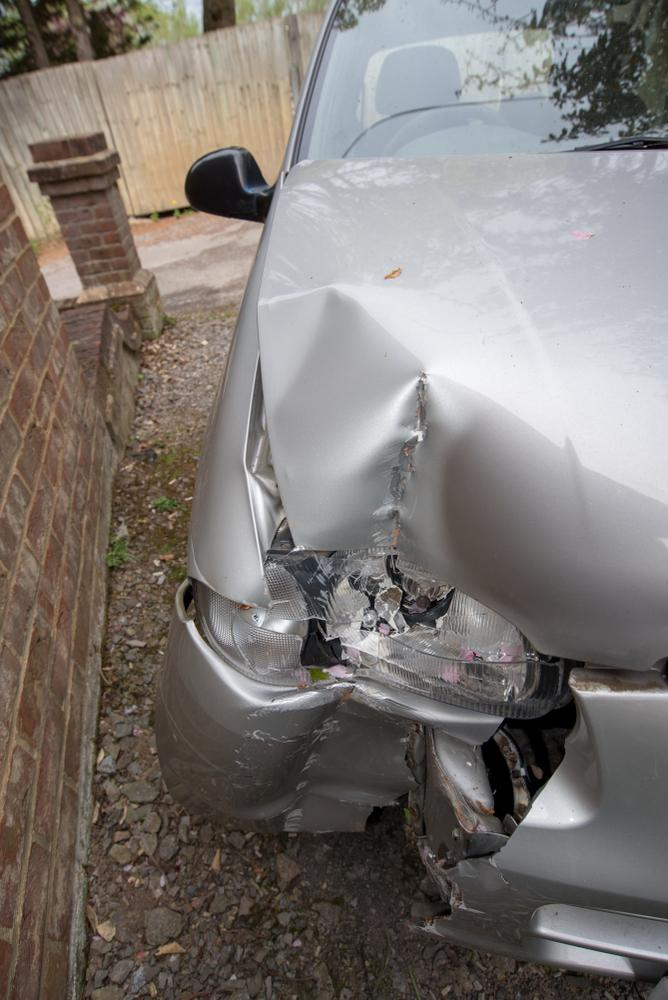dent: (263, 284, 563, 633), (248, 696, 394, 835)
lamp broken: (190, 548, 557, 718)
